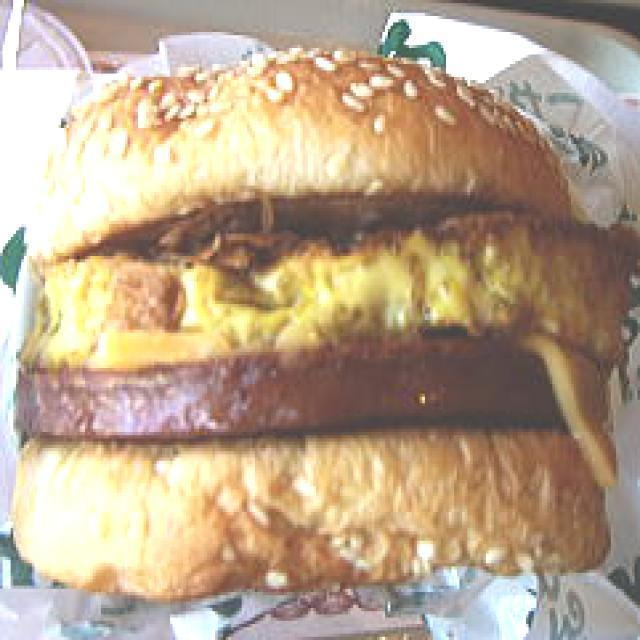hamburger: (0, 35, 638, 615)
